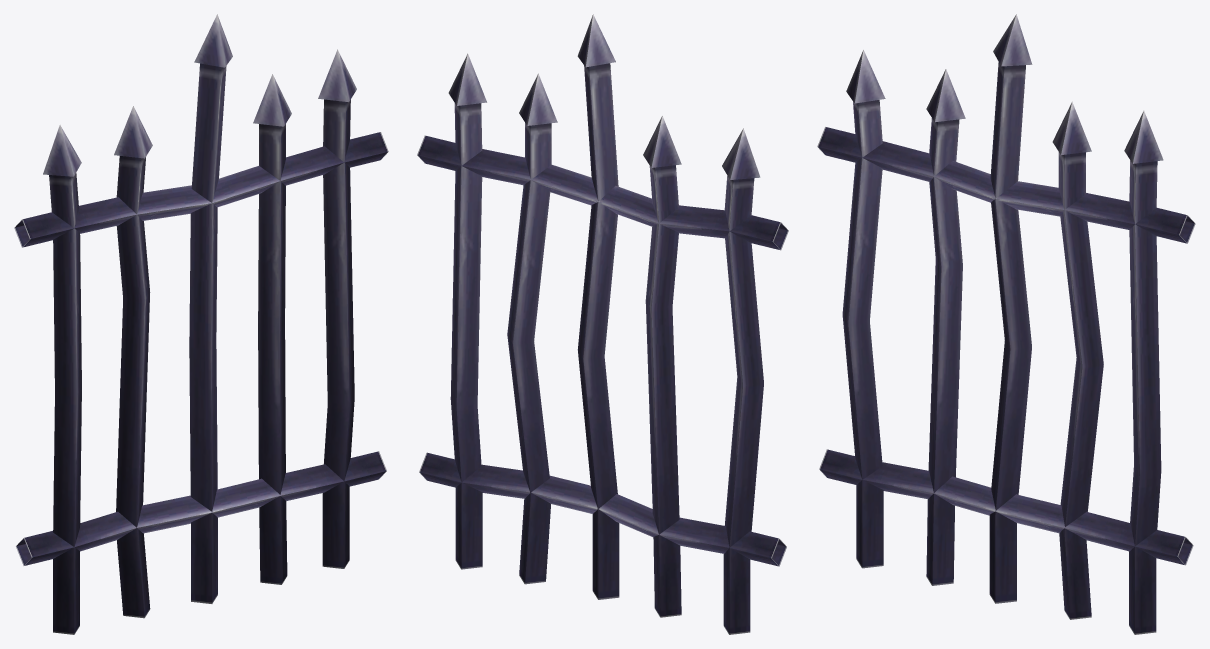
Rendered from crypt_doorgate_straight_01.fbx.
3 renders of one model, left to right at view 1: azimuth 30°, elevation 25°; view 2: azimuth 150°, elevation 25°; view 3: azimuth 330°, elevation 25°, orthographic.
Parts seen in each view (by area): view 1: crypt_tileset/crypt_wall05; view 2: crypt_tileset/crypt_wall05; view 3: crypt_tileset/crypt_wall05.
Part boxes in pixels (box(x1,y1,x2,y2)): crypt_tileset/crypt_wall05: box(14, 14, 388, 634); crypt_tileset/crypt_wall05: box(417, 14, 788, 634); crypt_tileset/crypt_wall05: box(817, 14, 1195, 634).
Bounding box in the file's own units: 2.35 × 3.63 × 0.3526.
